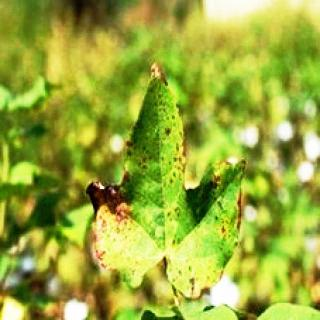leaf spot: (89, 66, 244, 295)
